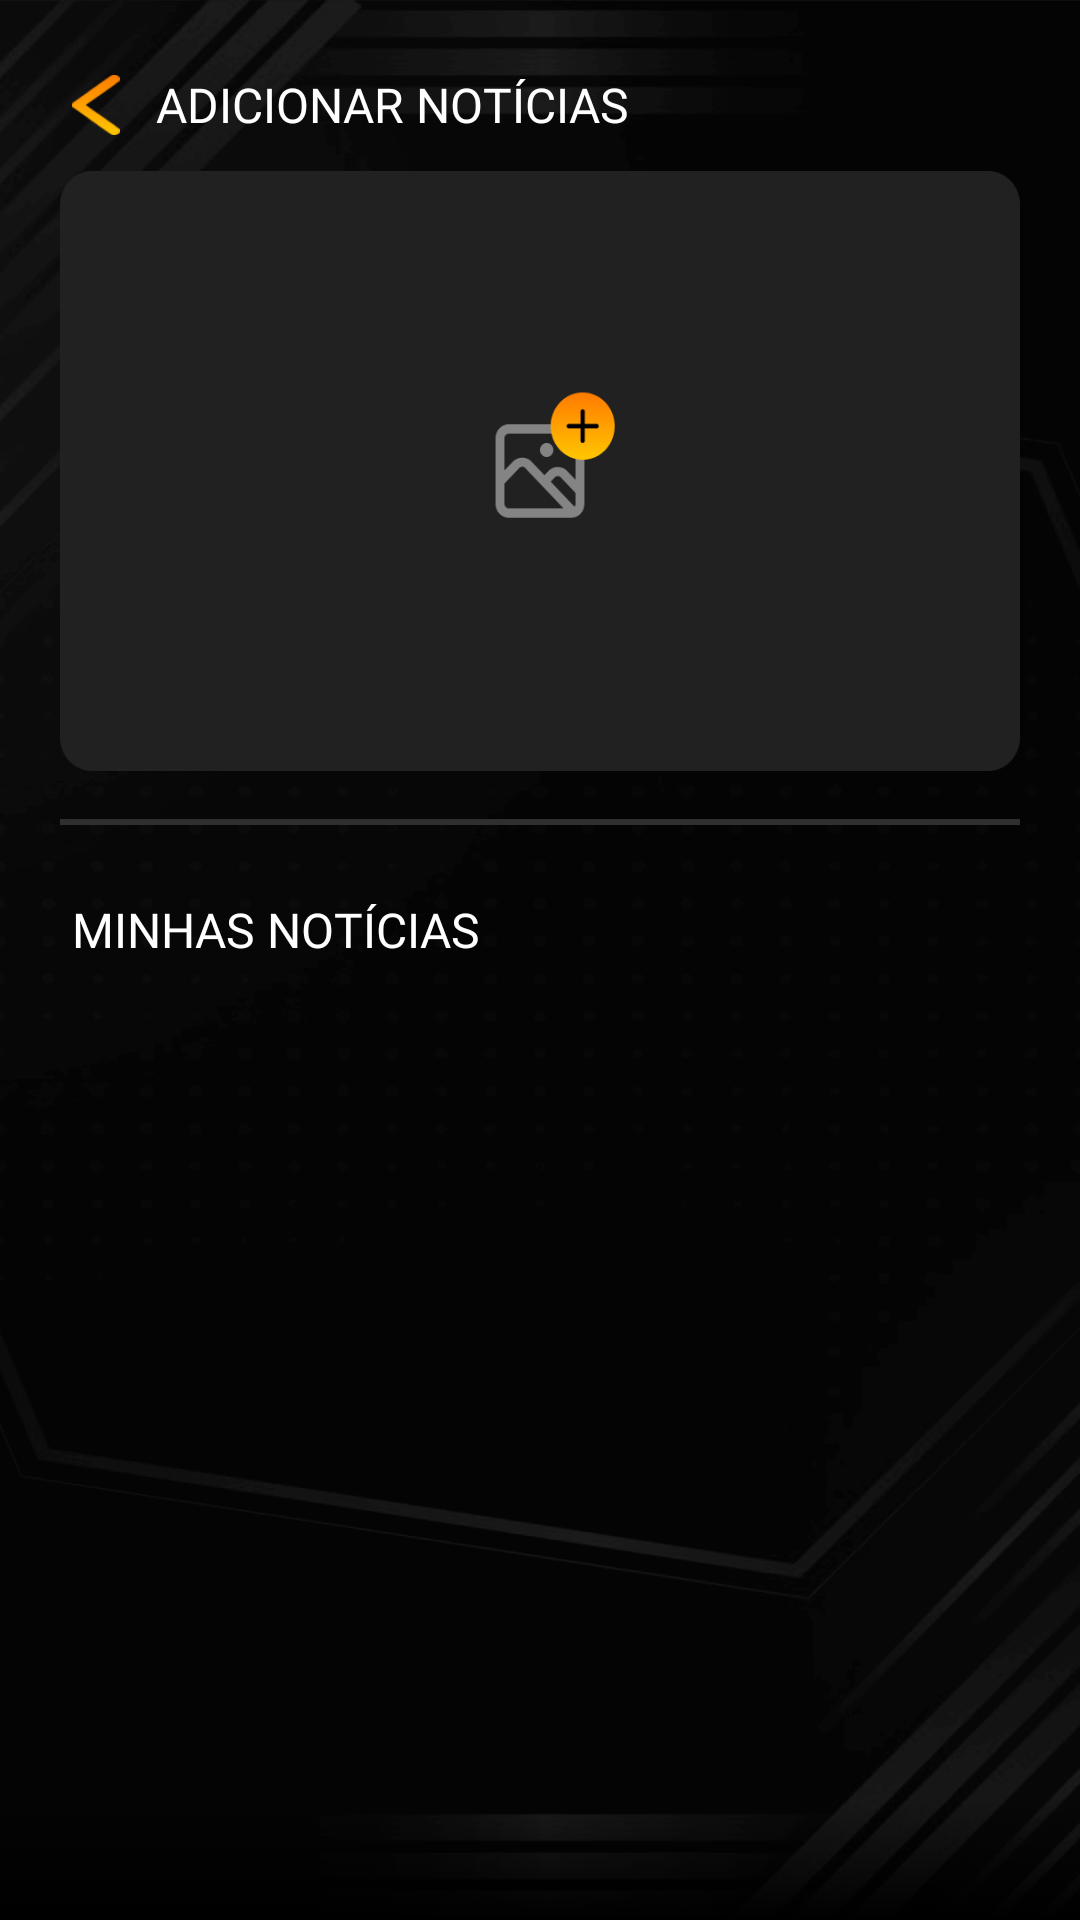

Point at icon controls on the screen. Image size 1080px×1920px, points as (x,y).
back arrow kaverdarm: (96,105)
